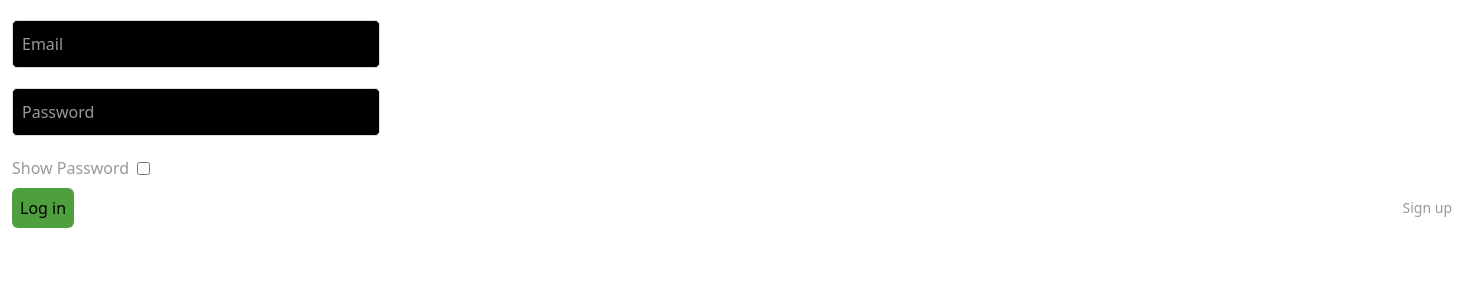
Test: tests the login failure
In the password field labelled "Password": [196, 112] box [12,88,380,136], type "testing"
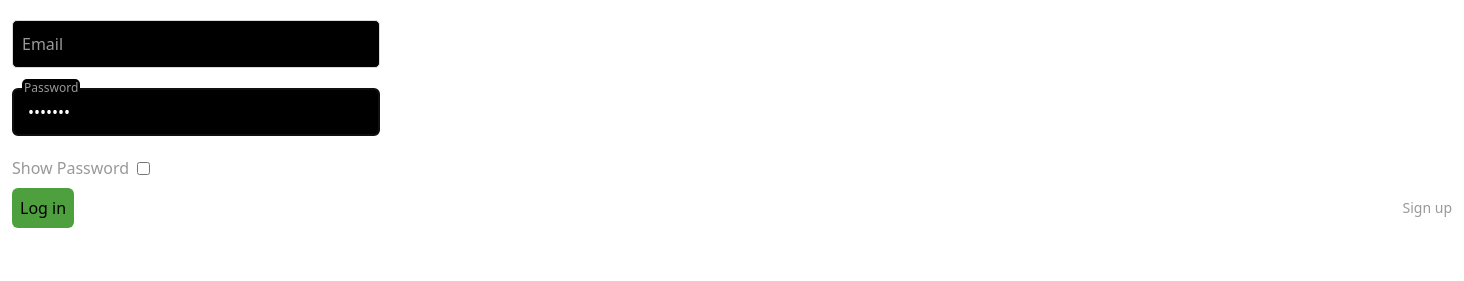
In the field labelled "Email": [196, 44] box [12,20,380,68], type "saad@gmail.com"
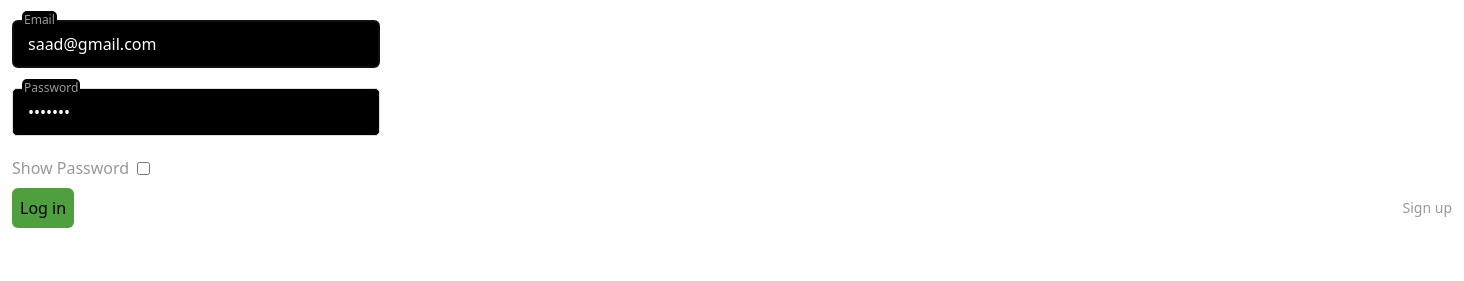
Click the button showing "Log in": [43, 208] box [12,188,74,228]
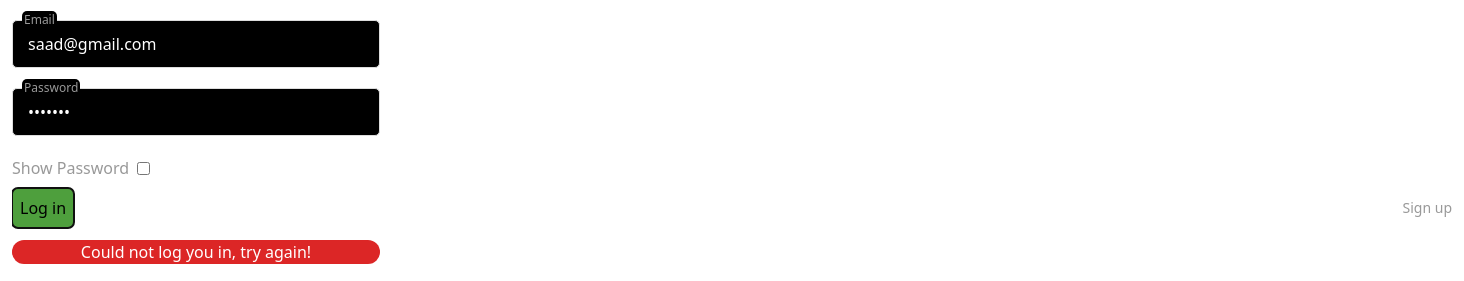
Result: the text "Could not log you in, try again!" is shown at [12,240,380,264]
